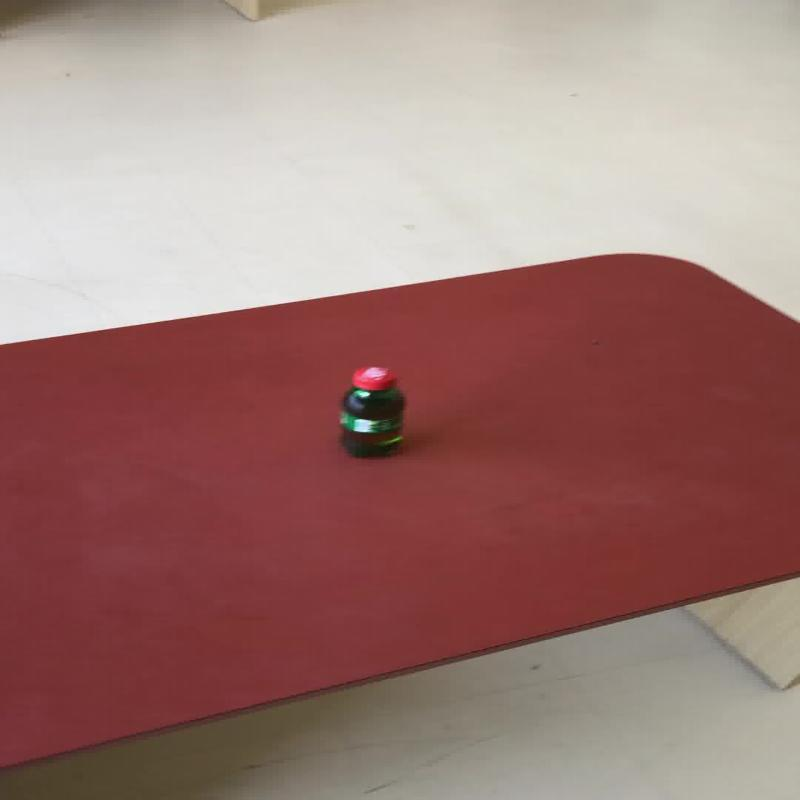guarana: (336, 364, 406, 458)
